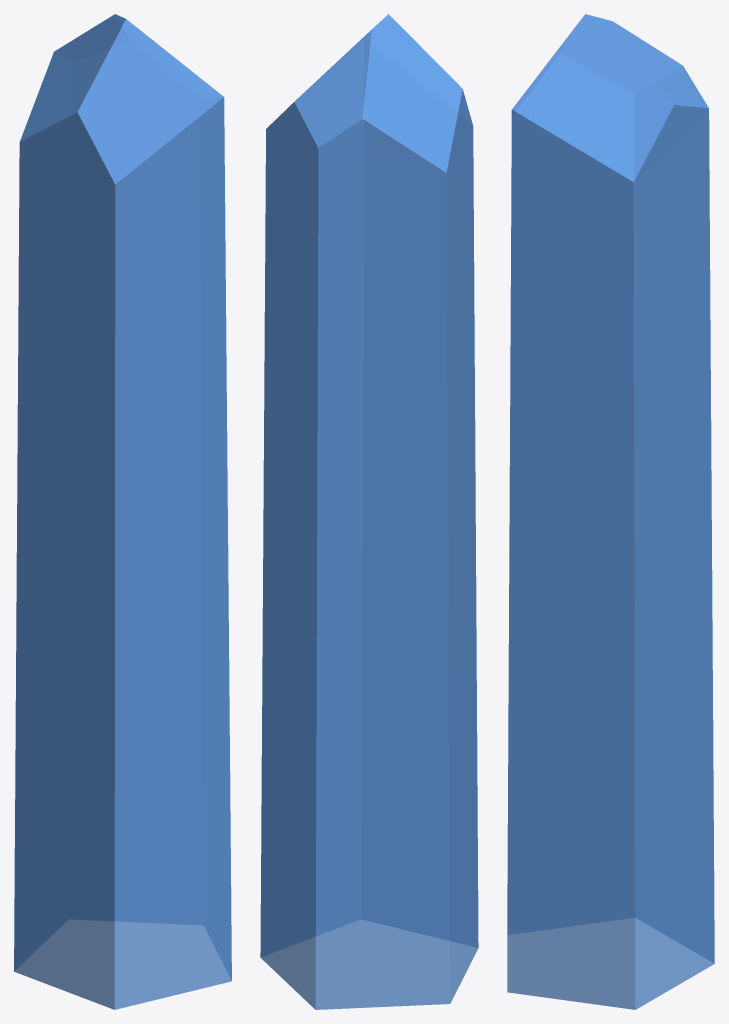
Rendered from Crystal_s_02.fbx.
The picture shows the model from 3 angles, left to right: view 1: azimuth 30°, elevation 25°; view 2: azimuth 150°, elevation 25°; view 3: azimuth 270°, elevation 25°; orthographic projection.
Visible parts, largest first — view 1: Crystal_s_02; view 2: Crystal_s_02; view 3: Crystal_s_02.
Part boxes in pixels (x1,y1,x2,y2): Crystal_s_02: [14, 14, 231, 1009]; Crystal_s_02: [260, 14, 478, 1009]; Crystal_s_02: [507, 14, 714, 1009].
Size of the model in its own units: 24.5 by 117 by 23.3.
